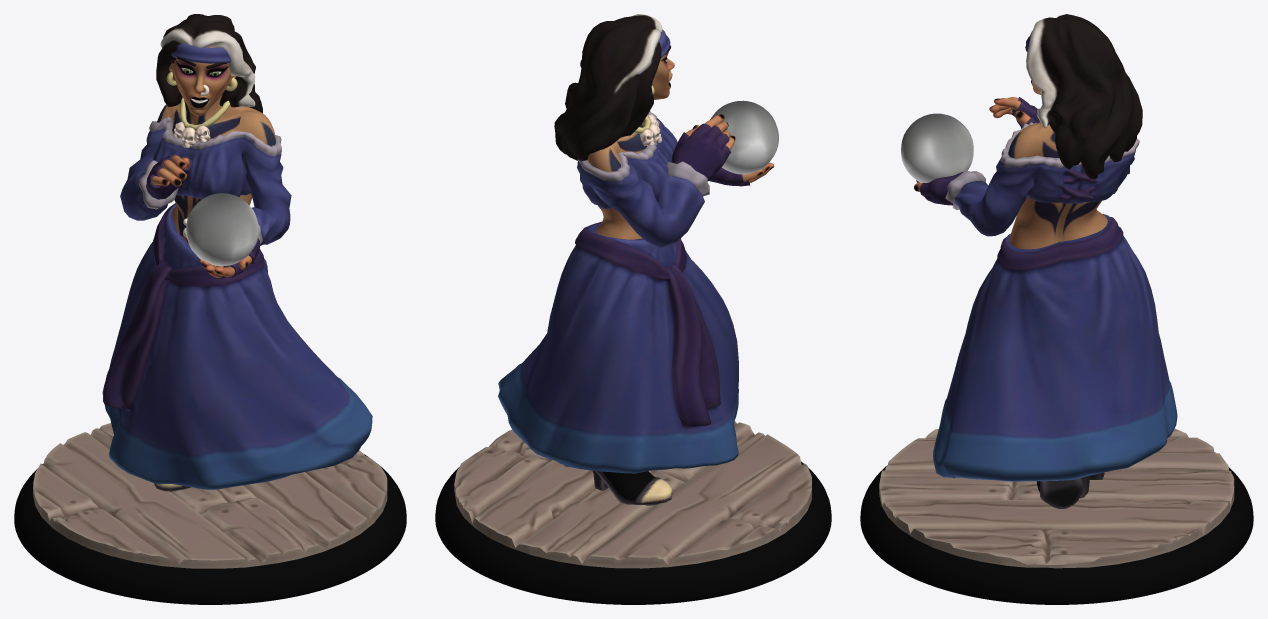
The model's file is SM_MadameZostra.fbx.
3 views of the same model, side by side, from view 1: azimuth 30°, elevation 25°; view 2: azimuth 150°, elevation 25°; view 3: azimuth 270°, elevation 25° (orthographic).
Parts seen in each view (by area): view 1: hf_4411755_5481254; view 2: hf_4411755_5481254; view 3: hf_4411755_5481254.
Part boxes in pixels (left/top/right/bottom): hf_4411755_5481254: left=14, top=14, right=406, bottom=604; hf_4411755_5481254: left=435, top=14, right=831, bottom=604; hf_4411755_5481254: left=860, top=14, right=1253, bottom=604.
Bounding box in the file's own units: 135 × 189 × 135.
